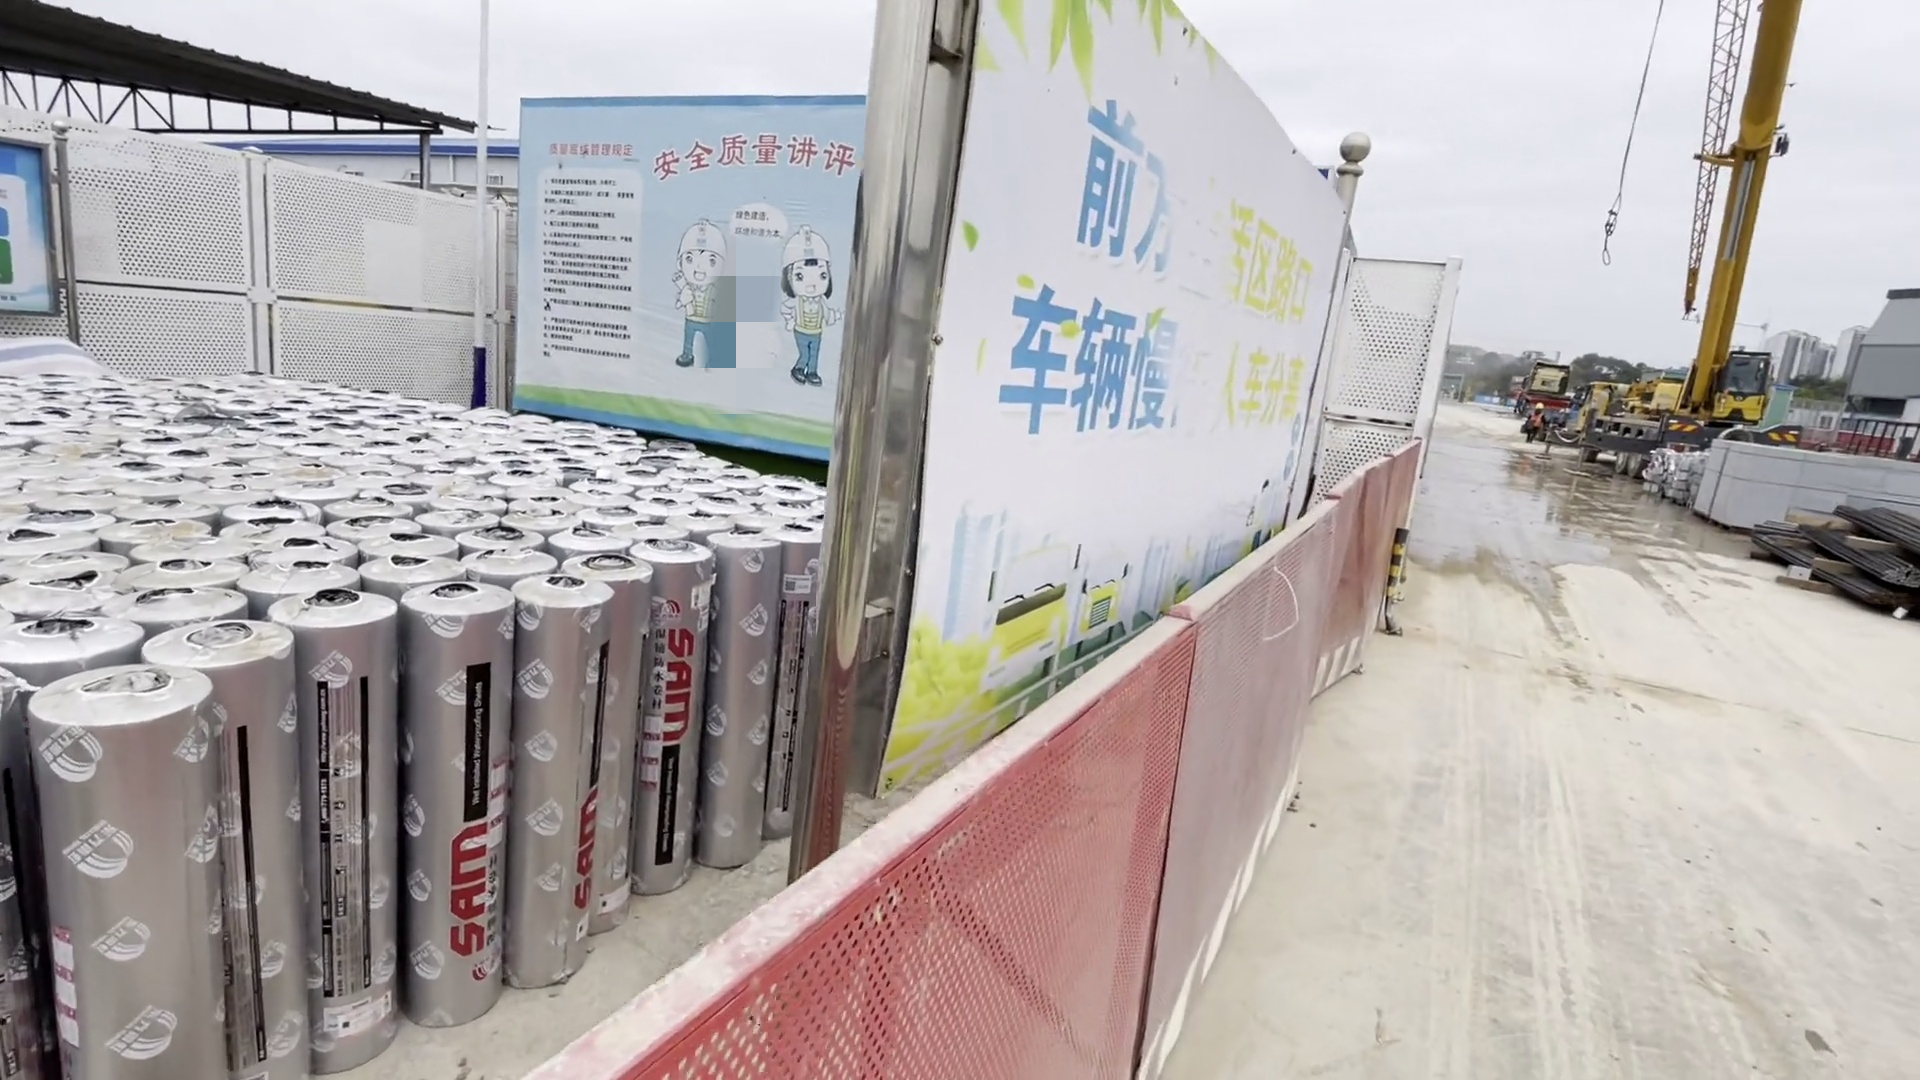brick: (1693, 442, 1920, 559)
